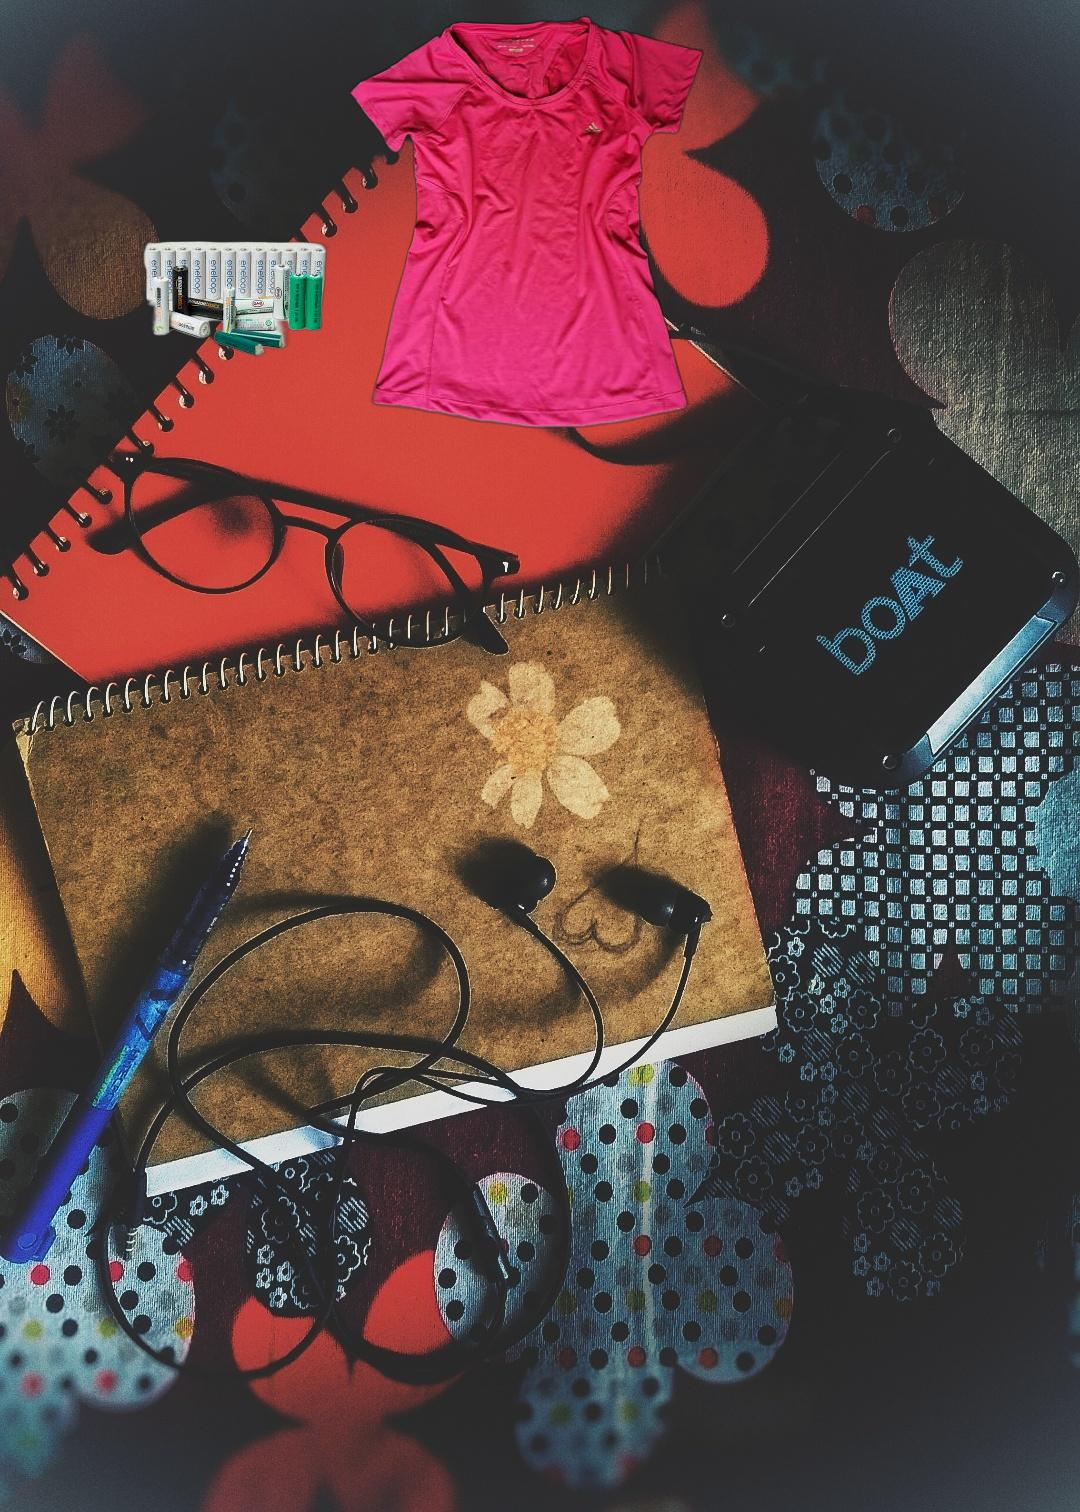battery: (140, 238, 331, 362)
clothes: (347, 12, 706, 432)
paper-bag: (1068, 1489, 1080, 1512)
